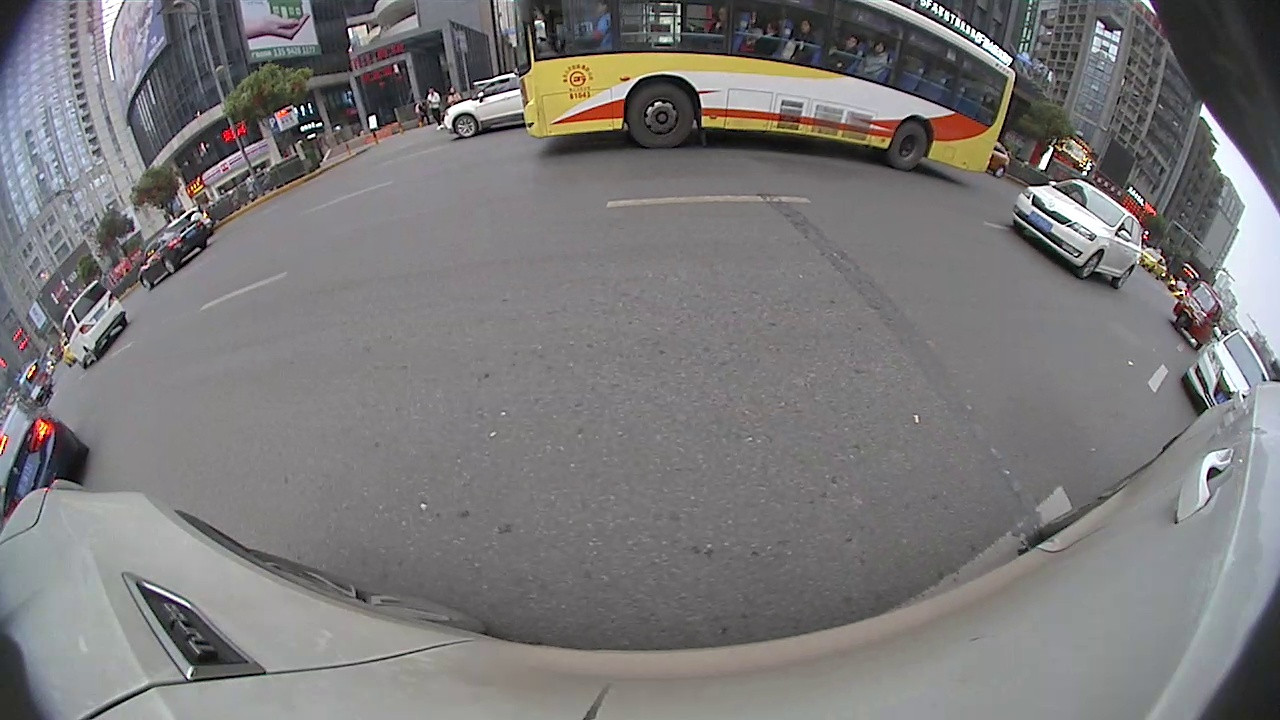bus: (510, 2, 1017, 179)
car: (1013, 178, 1144, 290), (0, 396, 91, 524), (1181, 333, 1270, 417), (57, 276, 132, 367), (438, 71, 530, 141), (136, 219, 210, 292)
front: (625, 83, 694, 152), (1077, 248, 1103, 283), (453, 113, 477, 140), (139, 277, 152, 291)
rear: (888, 122, 928, 172), (162, 256, 177, 276)
rider: (1169, 281, 1228, 353)
